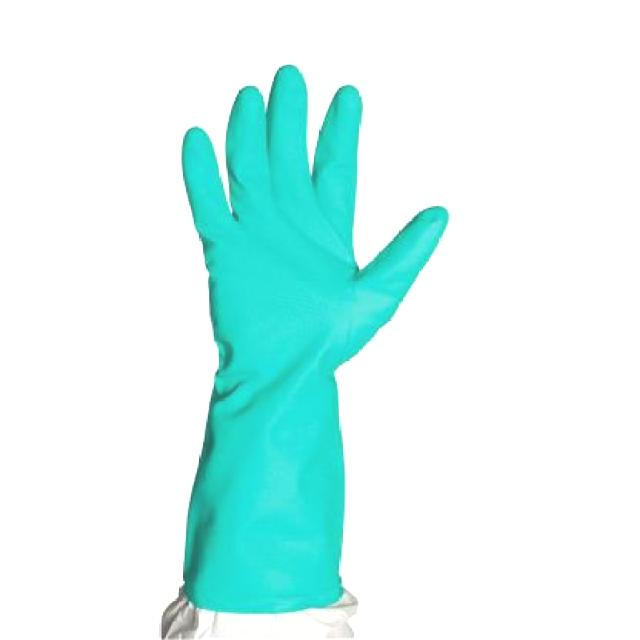glove: (132, 49, 448, 611)
